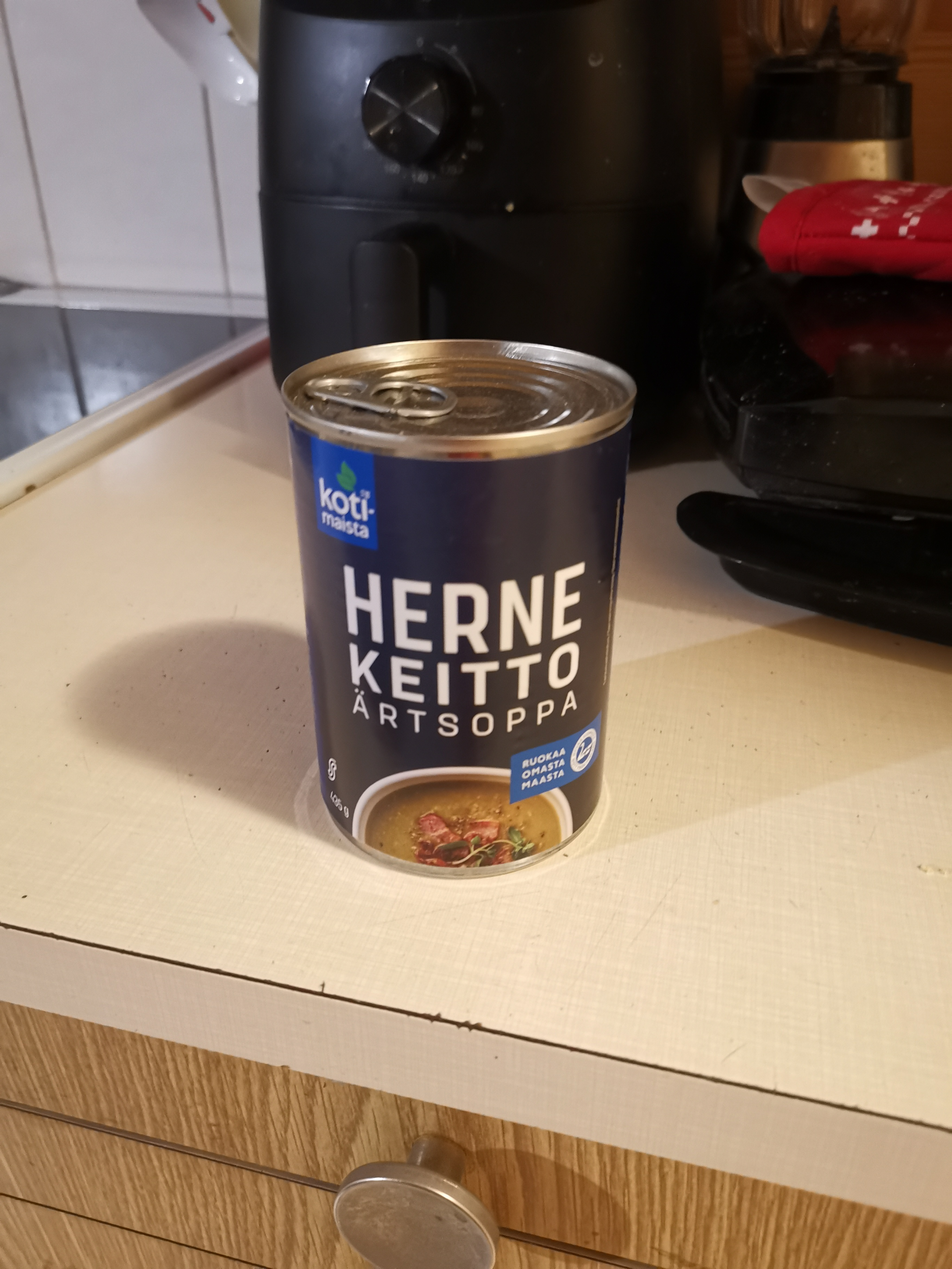Konservburk: (278, 336, 641, 883)
